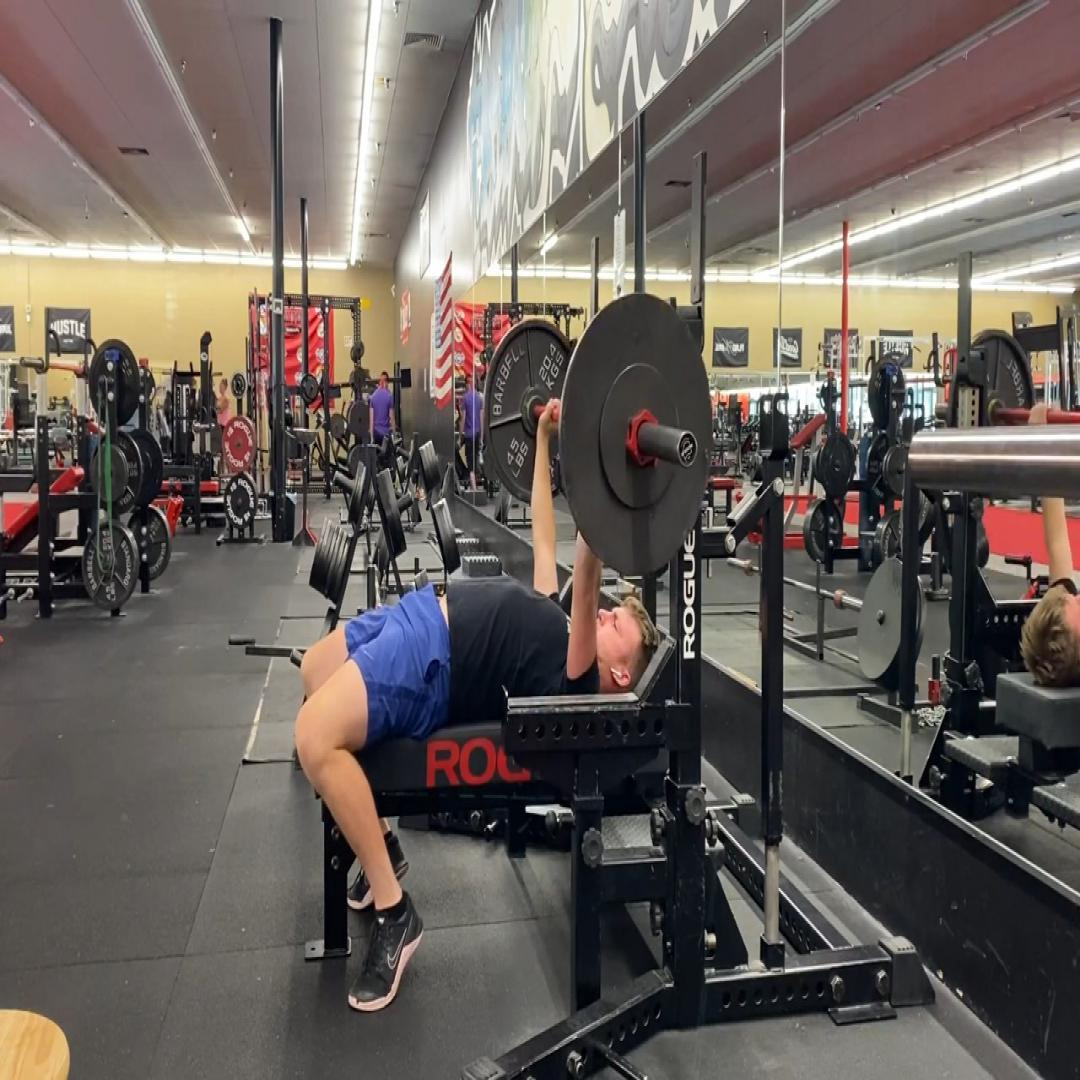Bar: (676, 430, 697, 468)
Barbell: (558, 292, 712, 576)
